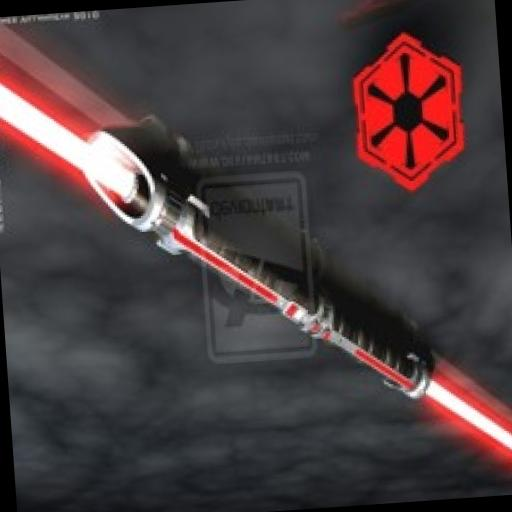lightsaber: (0, 38, 512, 497)
